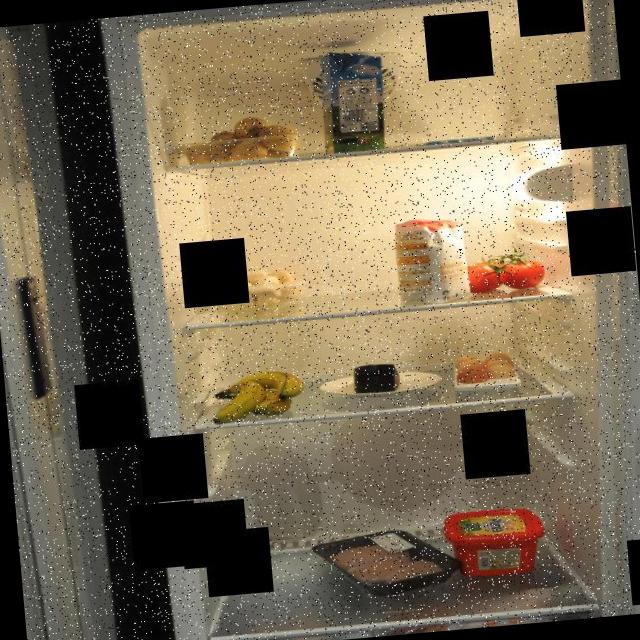Carne pollo: (310, 522, 468, 604)
Champiñones: (200, 254, 310, 316)
Huevos: (452, 348, 519, 388)
Leche: (313, 45, 390, 156)
Mantequilla: (440, 502, 550, 584)
Patata: (177, 110, 303, 168)
Plátano: (204, 366, 308, 427)
Queso: (352, 360, 401, 396)
Tomate: (458, 232, 546, 296)
